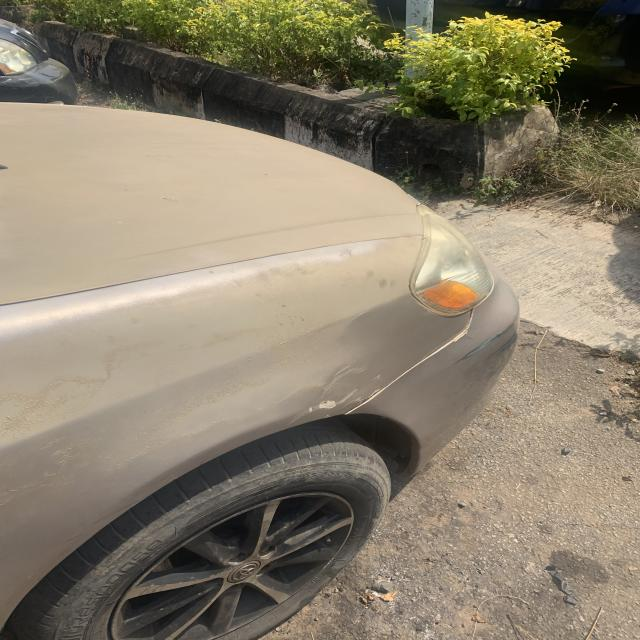front-bumper-scratch: (446, 316, 520, 392)
paint-chip: (19, 308, 388, 464)
